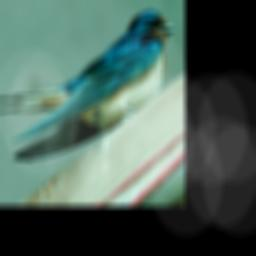Swallow: (0, 9, 176, 162)
